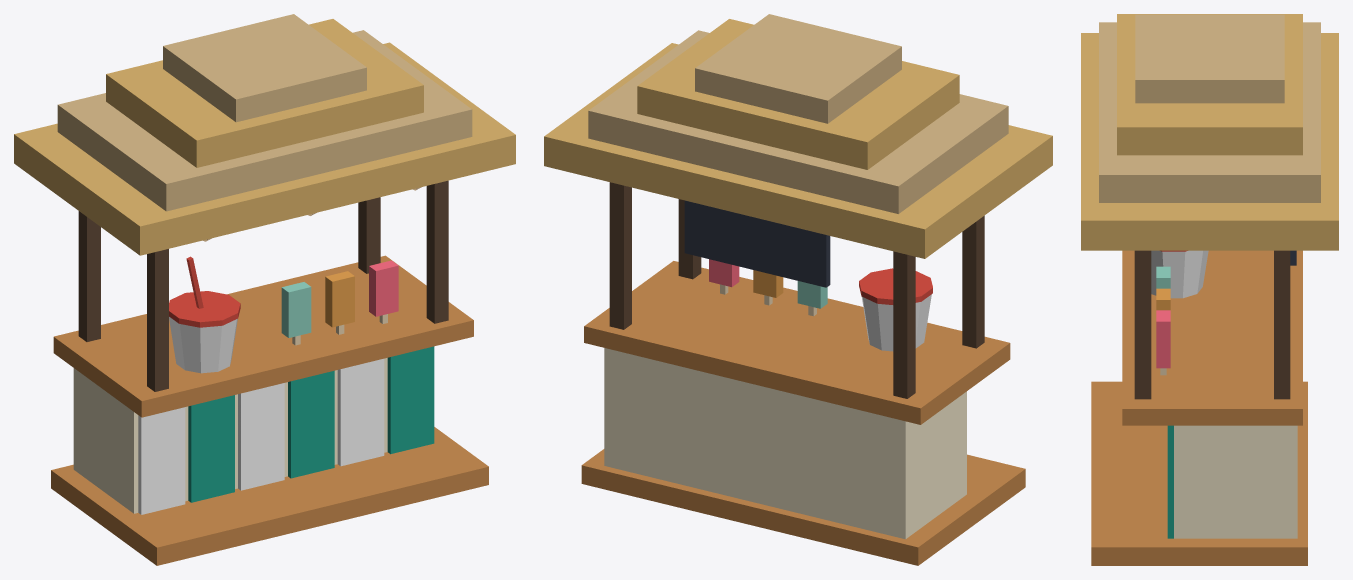
The model's file is CatCafe_Decor_SnackHut.glb.
The picture shows the model from 3 angles, left to right: view 1: azimuth 30°, elevation 25°; view 2: azimuth 150°, elevation 25°; view 3: azimuth 270°, elevation 25°; orthographic projection. The views are drawn at different scales.
Parts seen in each view (by area): view 1: CatCafe_Decor_SnackHut; view 2: CatCafe_Decor_SnackHut; view 3: CatCafe_Decor_SnackHut.
Part boxes in pixels (bbox=[...]): CatCafe_Decor_SnackHut: bbox=[14, 14, 515, 565]; CatCafe_Decor_SnackHut: bbox=[544, 14, 1052, 565]; CatCafe_Decor_SnackHut: bbox=[1081, 14, 1338, 565].
Size of the model in its own units: 4.3 by 4.66 by 2.5.
1 material, 1 textured.
